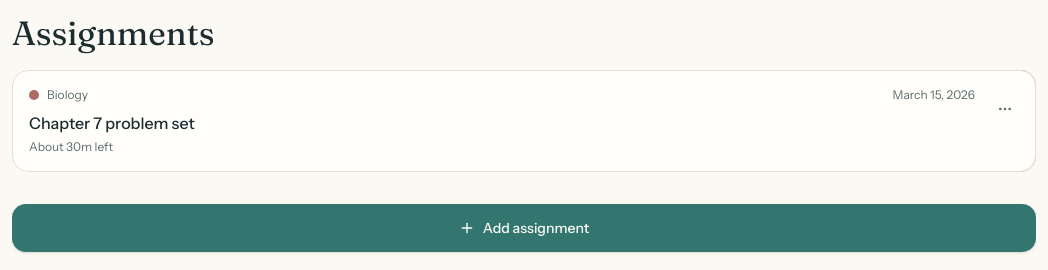
Test case: AssignmentsPage › puts Edit and Delete behind one row actions menu
Check: the text "Chapter 7 problem set" is shown, box [29,113,195,133]
Click the button named "Actions for Chapter 7 problem set" at (1005, 109), box [983,87,1027,131]
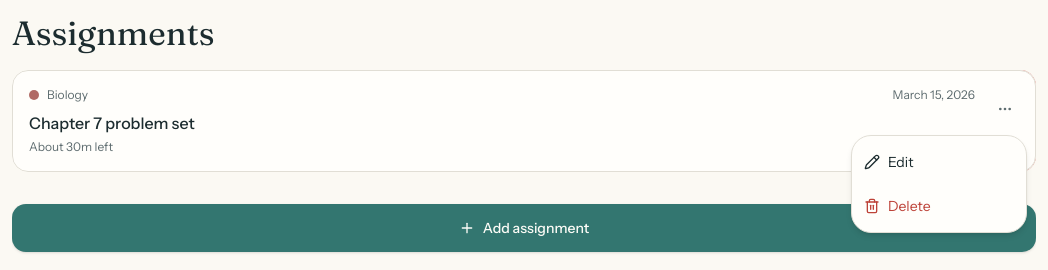
Check: the menu item "Edit" is shown, box [864,153,913,171]
Check: the menu item "Delete" is shown, box [864,197,931,215]
